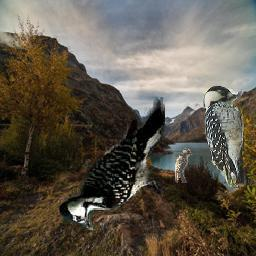Woodpecker: (57, 98, 166, 233), (204, 85, 245, 188), (175, 149, 193, 184)
